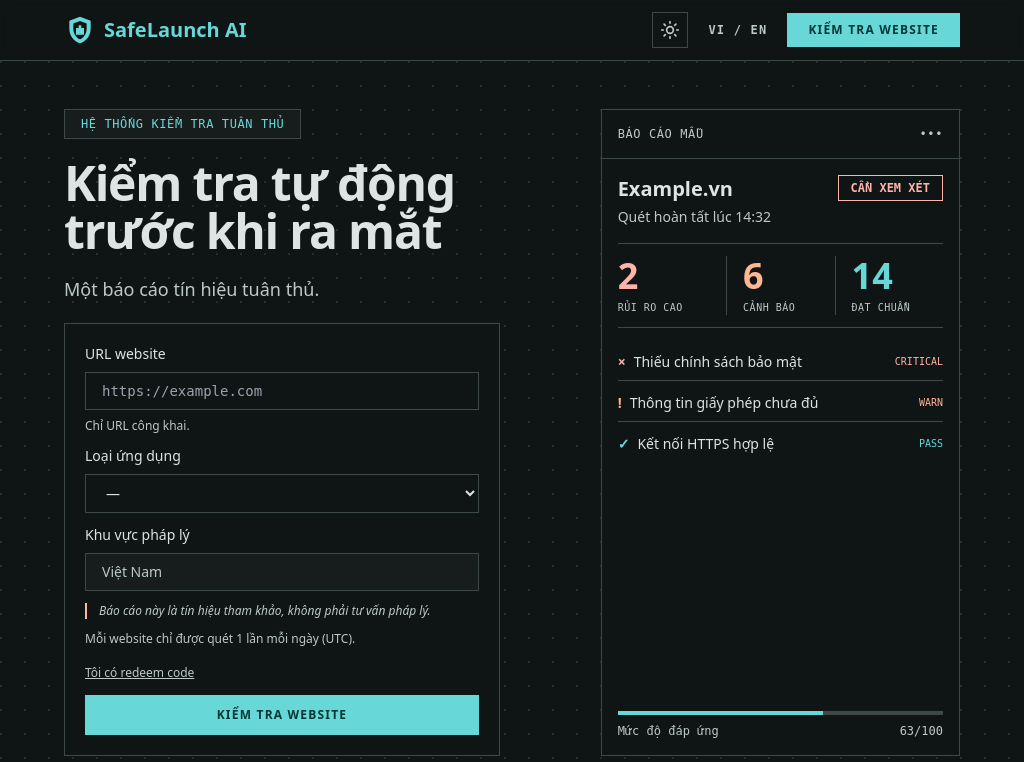
ScanForm › opens the redeem code field when the toggle is clicked
The image size is (1024, 762).
Click the button "Tôi có redeem code".
click(140, 673)  # box x1=85 y1=665 x2=194 y2=681
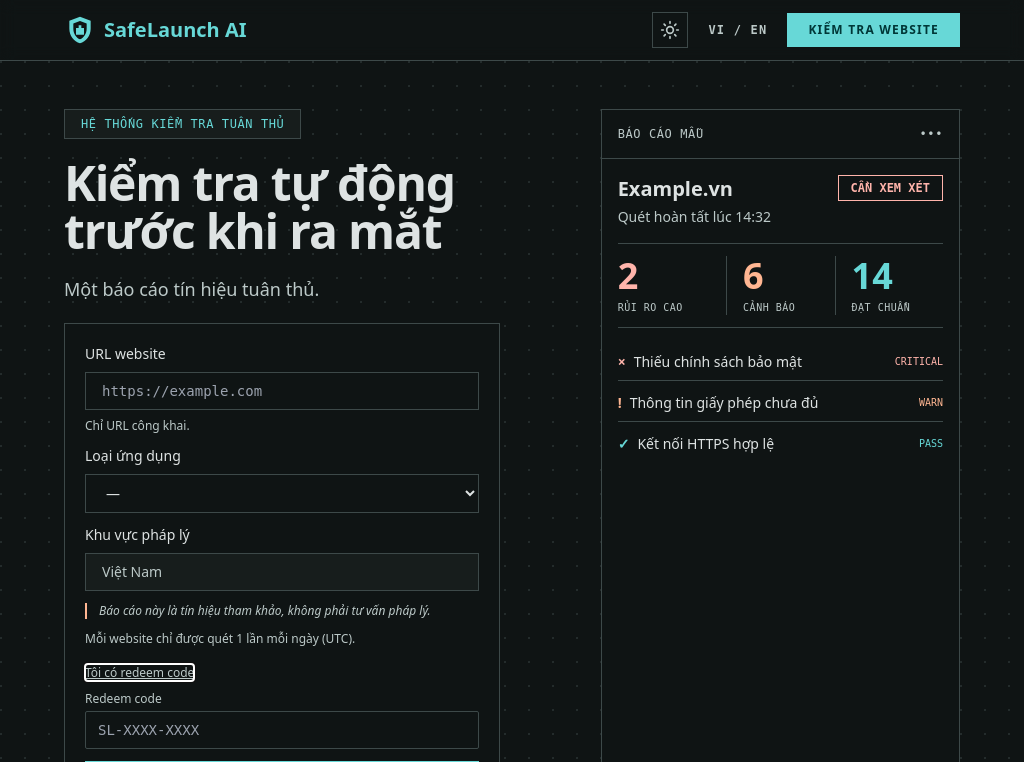
Now the field with test id "redeem-input" is shown, box x1=85 y1=711 x2=479 y2=749
